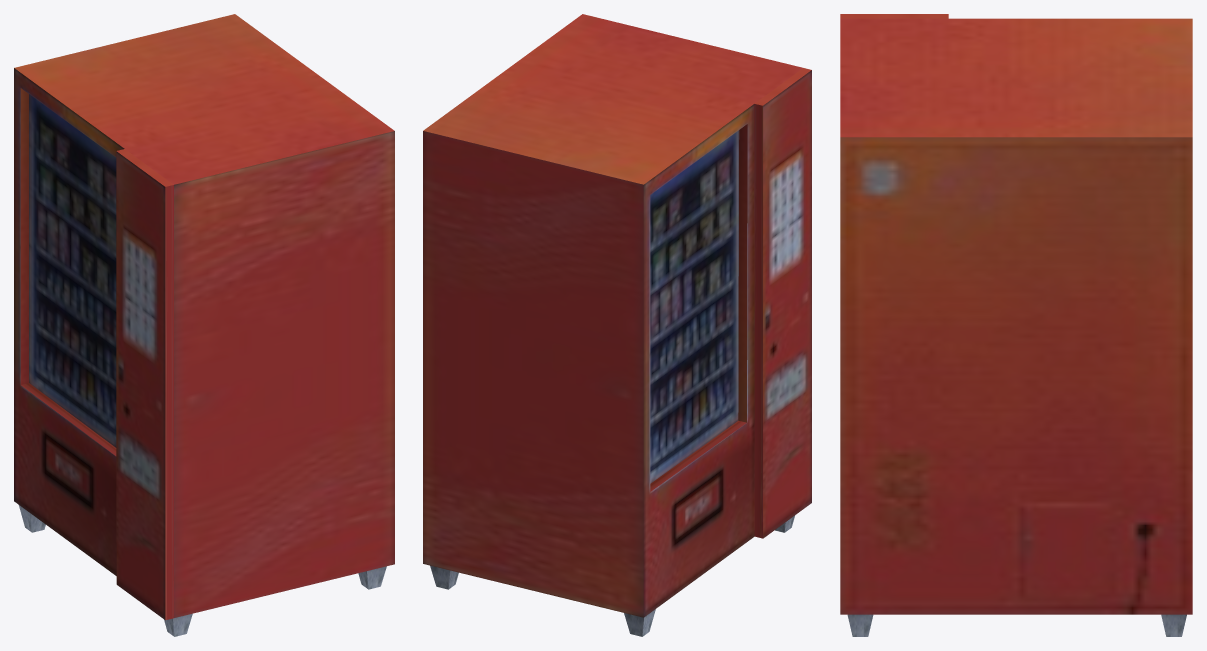
The model's file is pr_vend2.glb.
3 views of the same model, side by side, from view 1: azimuth 30°, elevation 25°; view 2: azimuth 150°, elevation 25°; view 3: azimuth 270°, elevation 25° (orthographic). The views are drawn at different scales.
Visible parts, largest first — view 1: body|lambert12, body|lambert15; view 2: body|lambert12, body|lambert15; view 3: body|lambert12, body|lambert15.
Part boxes in pixels (x1,y1,x2,y2): body|lambert12: (14, 14, 394, 620); body|lambert15: (19, 505, 386, 636); body|lambert12: (423, 14, 811, 617); body|lambert15: (430, 515, 794, 636); body|lambert12: (840, 14, 1192, 614); body|lambert15: (847, 614, 1186, 636).
Bounding box in the file's own units: 1.01 × 1.93 × 1.22.
Materials: 3 (2 with a texture image).
